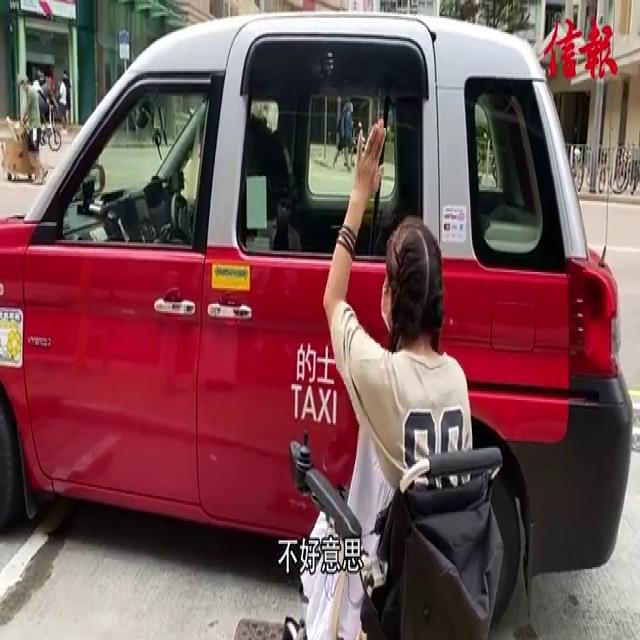wheelchairs: (271, 411, 529, 640)
